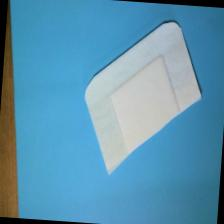Cut: (75, 11, 213, 187)
